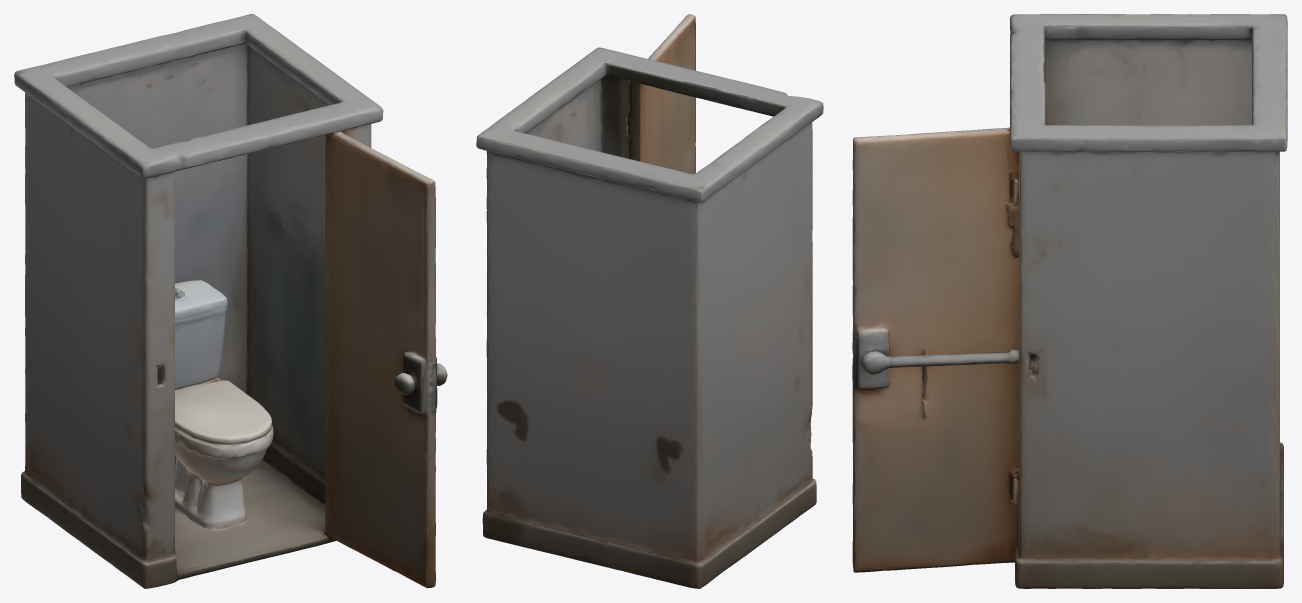
Rendered from universitytoilet_ToiletStall.glb.
The picture shows the model from 3 angles, left to right: view 1: azimuth 30°, elevation 25°; view 2: azimuth 150°, elevation 25°; view 3: azimuth 270°, elevation 25°; orthographic projection. The views are drawn at different scales.
Parts seen in each view (by area): view 1: world; view 2: world; view 3: world.
Part boxes in pixels (left/top/right/bottom): world: left=14, top=14, right=447, bottom=588; world: left=476, top=14, right=823, bottom=588; world: left=852, top=14, right=1287, bottom=588.
Size of the model in its own units: 0.5906 by 1 by 0.8681.
Materials: 1 (1 with a texture image).
